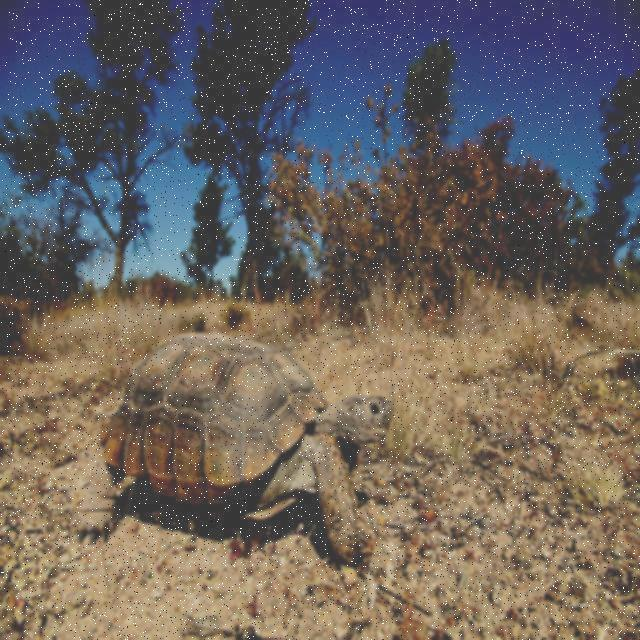tortoise: (78, 329, 414, 586)
